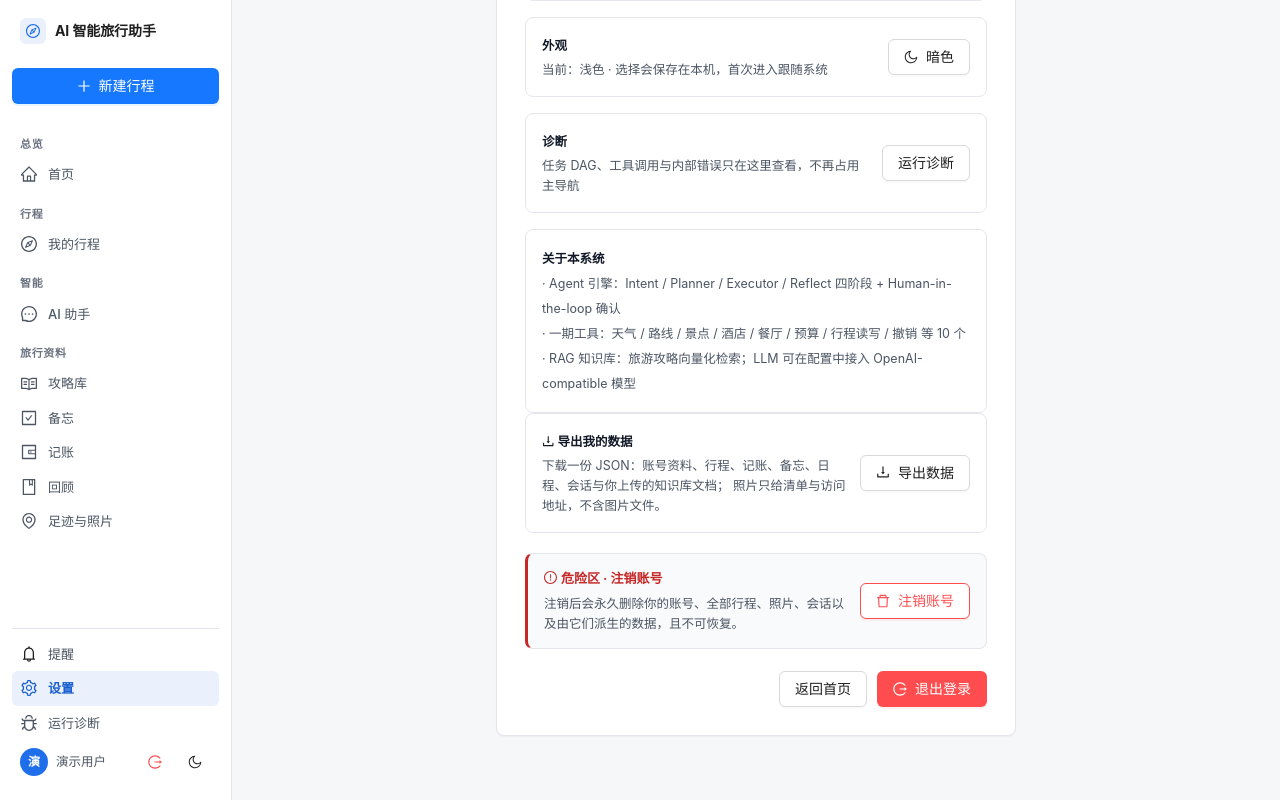
Scenario: Profile · 注销账号（P0-D） › 密码错误（401）时内联提示并保持登录态，不跳登录页
(page scrolled)
Click the button with test id "open-delete-account": (915, 601) 860,583 -> 970,619
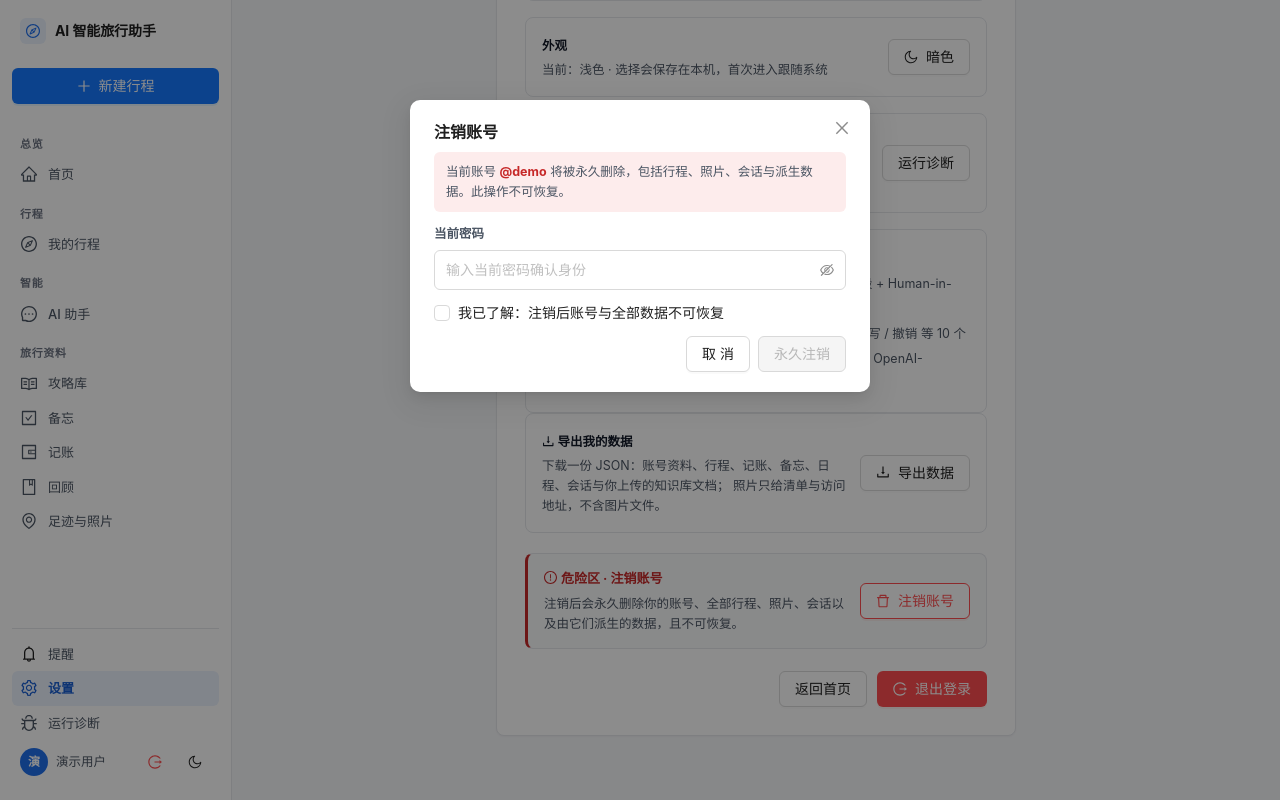
In the password field labelled "当前密码": (631, 270) 446,255 -> 816,285, type "wrong-password"
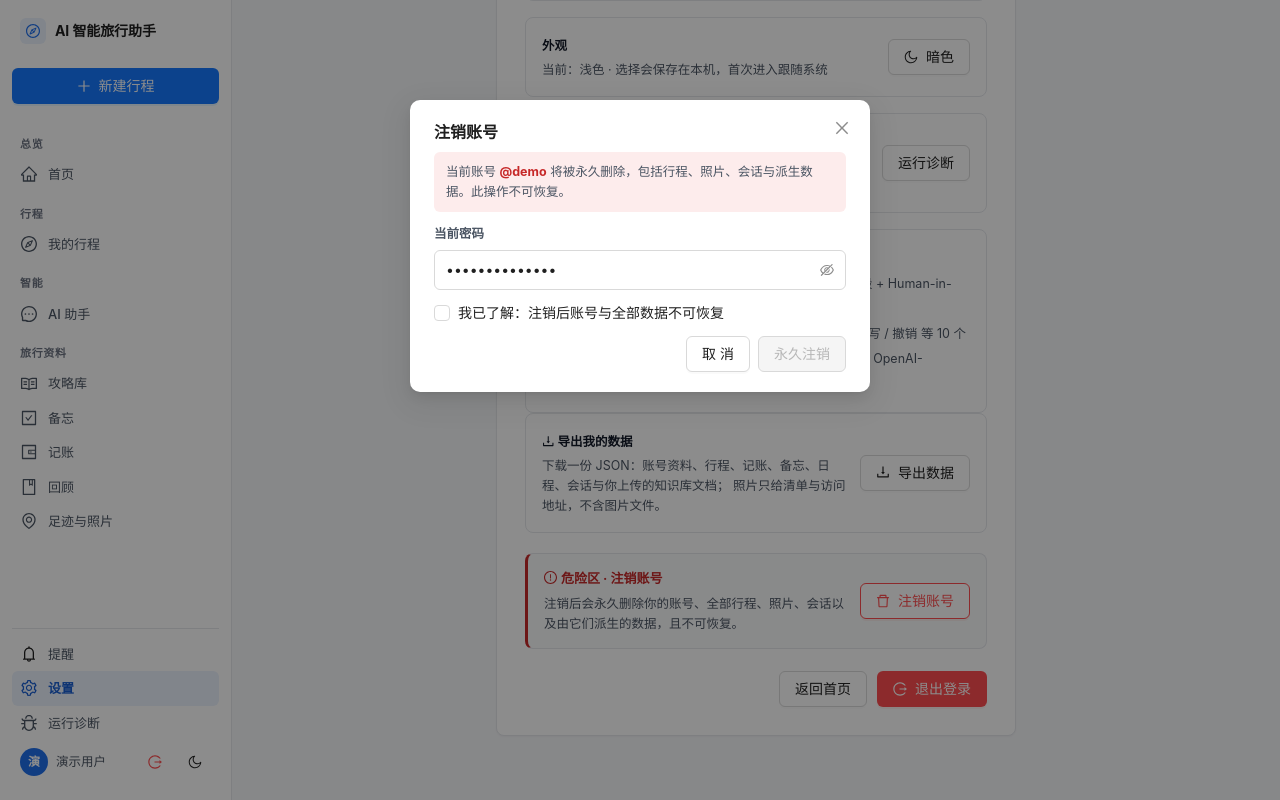
Click the checkbox: (579, 312) 434,304 -> 724,321
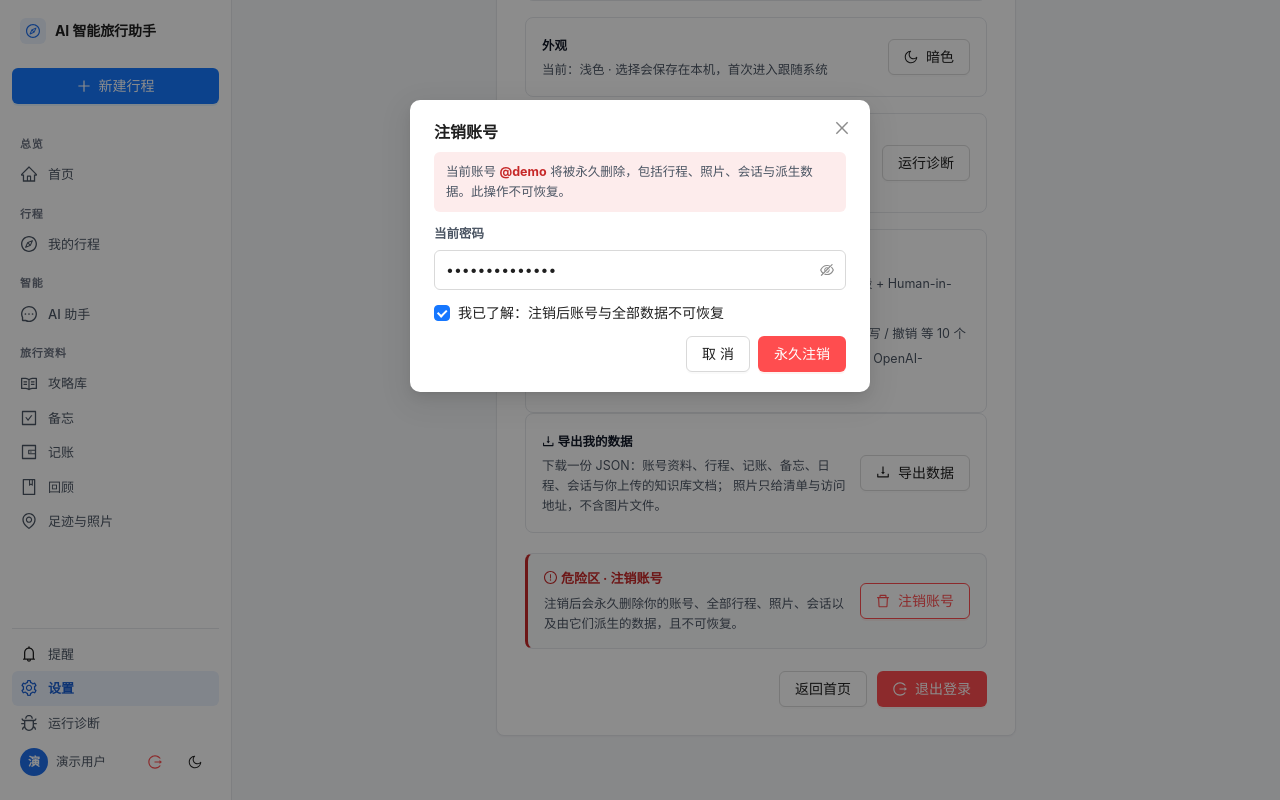
Click the button with test id "confirm-delete-account": (802, 354) 758,336 -> 846,372
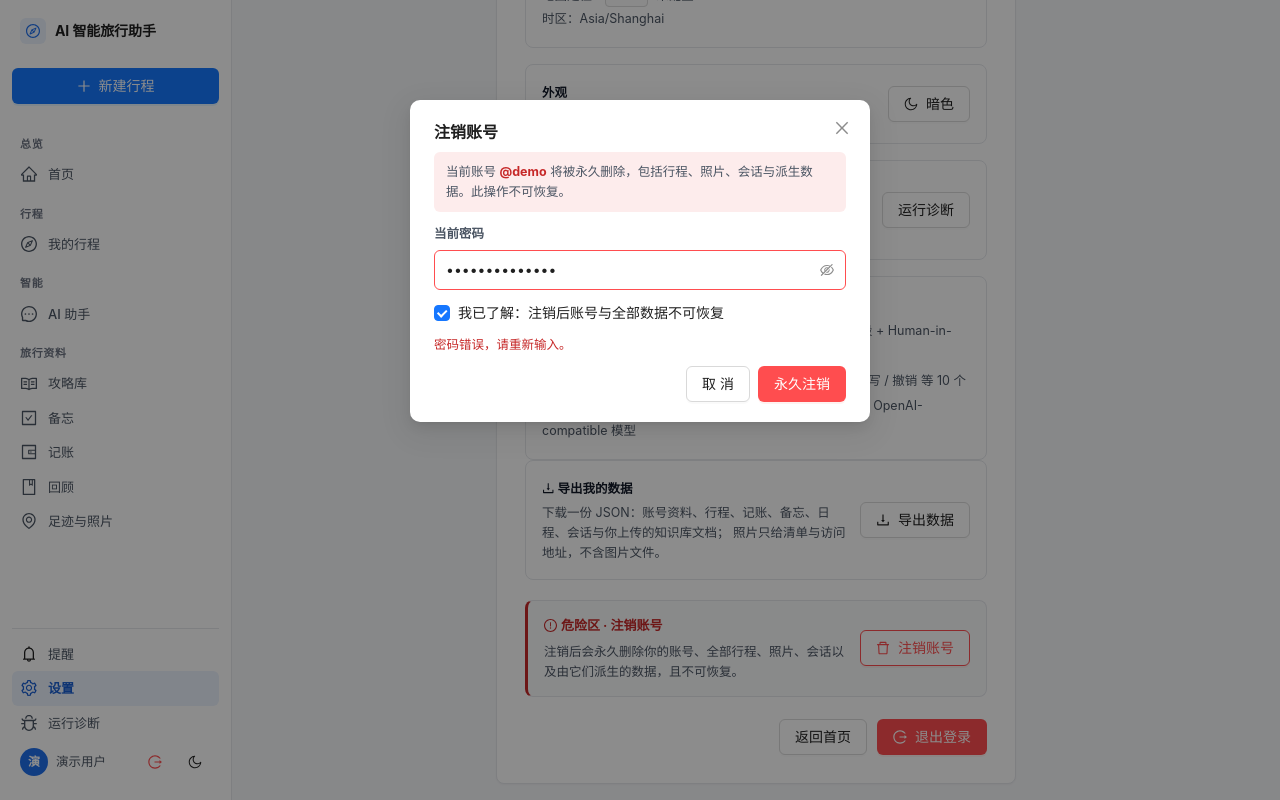
Result: the message with test id "delete-account-error" shows "密码错误" at 434,337 -> 572,352
